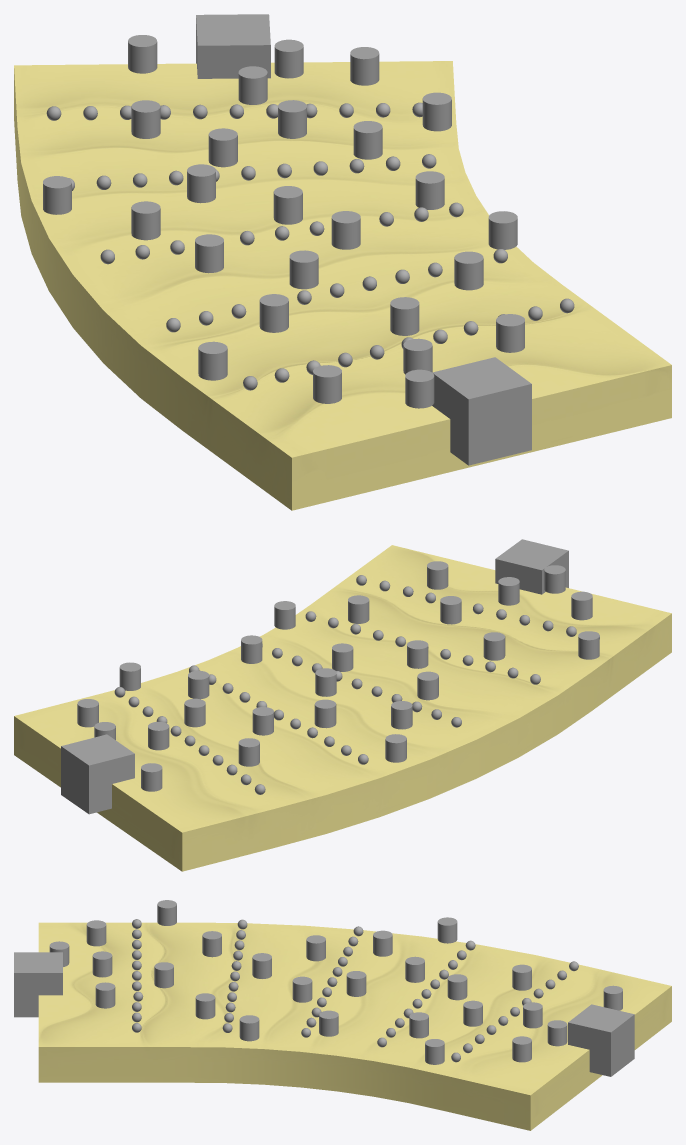
Rendered from assets002_Streckenteil_rechts002.fbx.
3 views of the same model, one above another, from view 1: azimuth 30°, elevation 25°; view 2: azimuth 150°, elevation 25°; view 3: azimuth 270°, elevation 25° (orthographic). The views are drawn at different scales.
Visible parts, largest first — view 1: streckenteil_rechtskurve_geo2, a (×11), b (×9), startpoint, c (×5), startpoint2, d; view 2: streckenteil_rechtskurve_geo2, a (×11), b (×9), startpoint2, startpoint, c (×4), d; view 3: streckenteil_rechtskurve_geo2, a (×10), b (×9), startpoint2, startpoint, c (×5), d.
Boxes of the visible parts, <box> form: streckenteil_rechtskurve_geo2: <box>14,61,671,510</box>; a (×11): <box>198,171,524,408</box>; b (×9): <box>43,92,451,289</box>; startpoint: <box>432,357,531,465</box>; c (×5): <box>131,39,379,167</box>; startpoint2: <box>196,14,270,78</box>; d: <box>128,35,157,73</box>; streckenteil_rechtskurve_geo2: <box>14,545,671,871</box>; a (×11): <box>241,561,599,671</box>; b (×9): <box>119,640,438,762</box>; startpoint2: <box>61,734,134,814</box>; startpoint: <box>495,539,568,594</box>; c (×4): <box>77,699,273,766</box>; d: <box>141,763,162,791</box>; streckenteil_rechtskurve_geo2: <box>38,922,671,1130</box>; a (×10): <box>86,900,338,1041</box>; b (×9): <box>252,917,482,1064</box>; startpoint2: <box>568,1004,634,1076</box>; startpoint: <box>14,952,62,1017</box>; c (×5): <box>447,964,567,1062</box>; d: <box>603,985,622,1010</box>.
Bounding box in the file's own units: 41.61 × 6.68 × 66.95.
